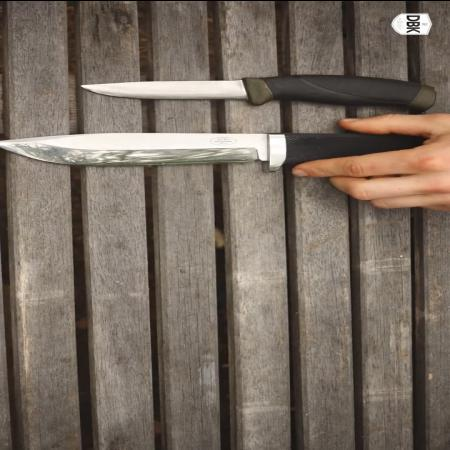long weapon: (1, 114, 370, 204), (66, 64, 286, 110)
